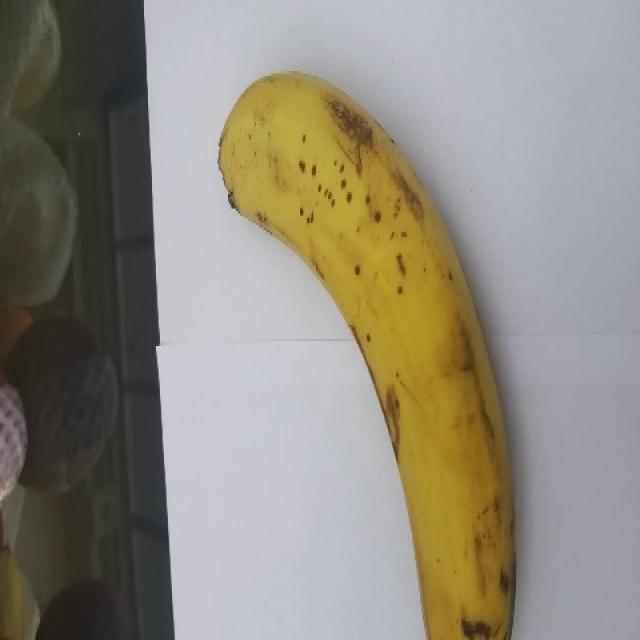Banana: (216, 69, 517, 638)
